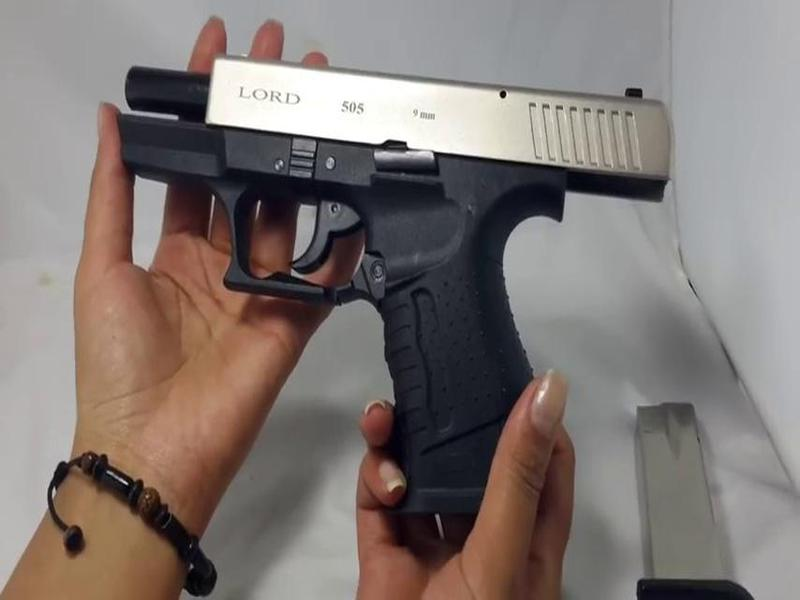Pistola: (89, 57, 695, 533)
